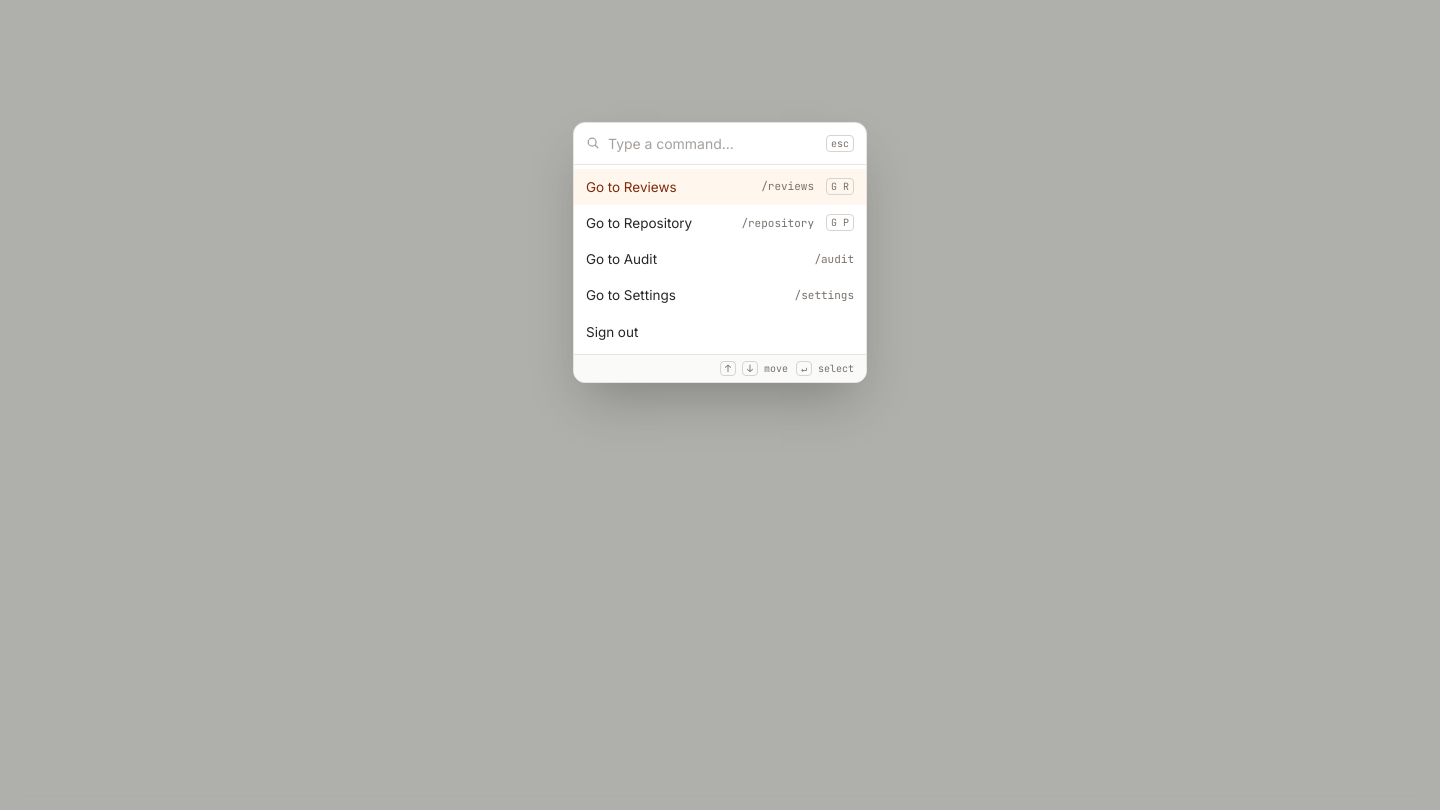
CommandPalette — filtering › filters items by case-insensitive substring on label
This screenshot has width=1440, height=810.
Type "REPO" into the dropdown at (713, 143), box [608,132,818,154]
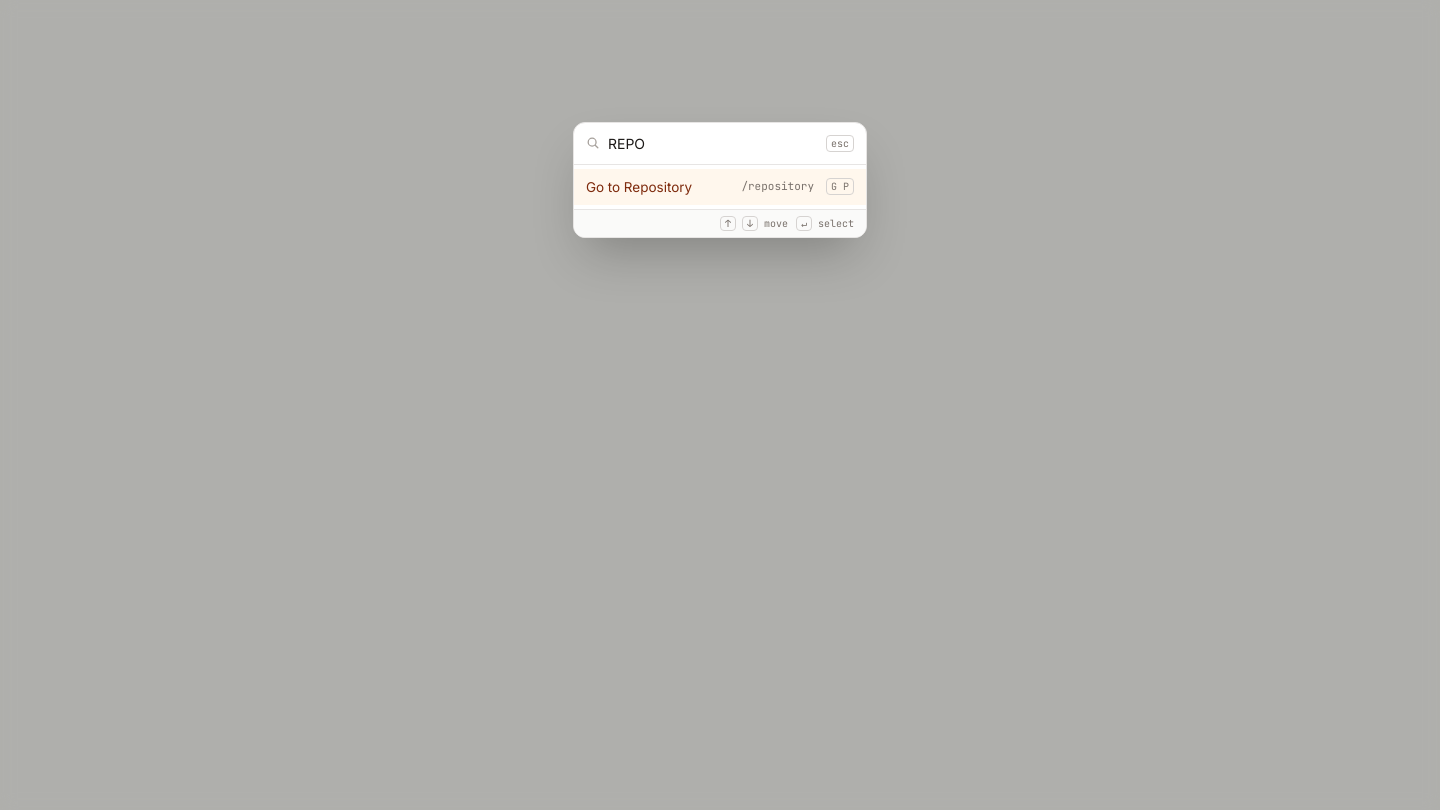
Check: the option "Go to Repository /repository G P" is shown, box [574,168,866,205]
Check: the option "Go to Reviews" is gone
